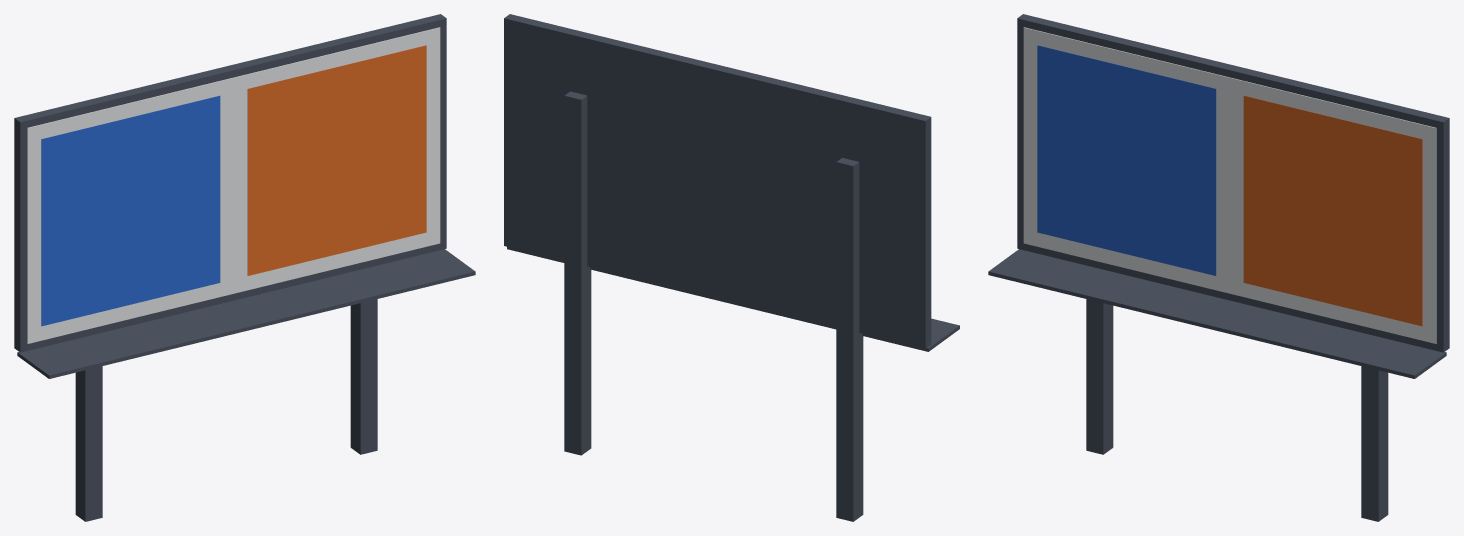
Rendered from billboard.glb.
The picture shows the model from 3 angles, left to right: view 1: azimuth 30°, elevation 25°; view 2: azimuth 150°, elevation 25°; view 3: azimuth 330°, elevation 25°; orthographic projection.
Visible parts, largest first — view 1: billboard; view 2: billboard; view 3: billboard.
Boxes of the visible parts, x1,y1,x2,y2 form: billboard: [14, 14, 475, 521]; billboard: [504, 14, 959, 521]; billboard: [988, 14, 1449, 521].
Bounding box in the file's own units: 6.2 × 5.8 × 1.03.
